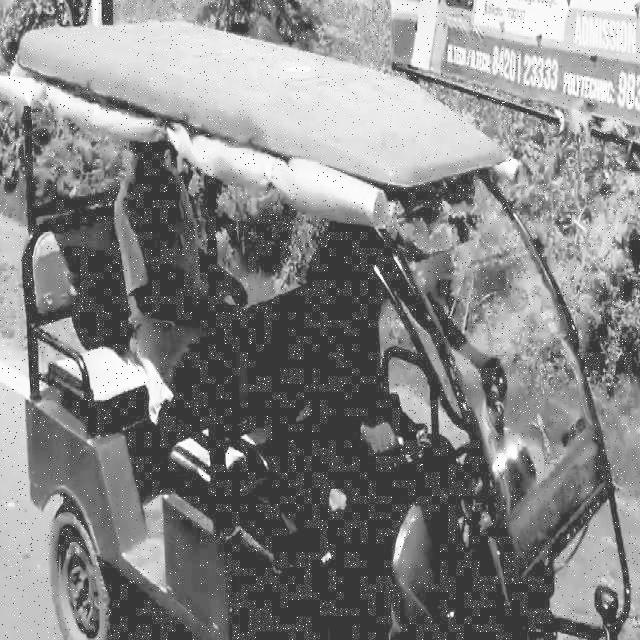Toto: (19, 19, 615, 640)
